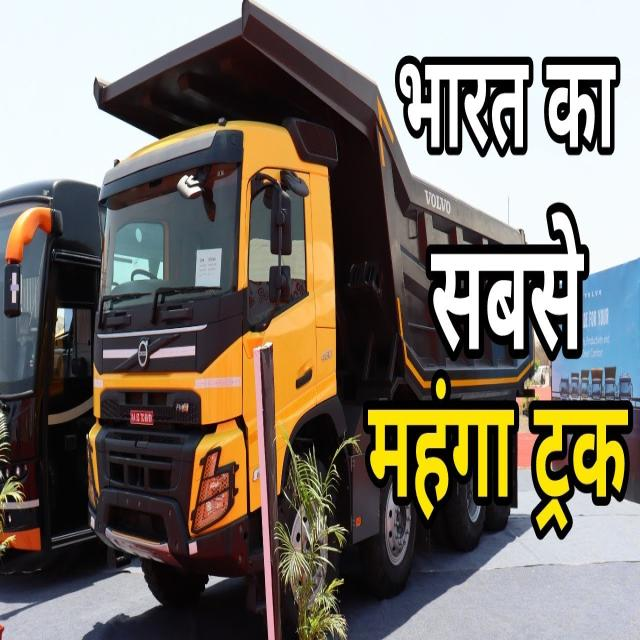dump_truck: (84, 0, 564, 626)
